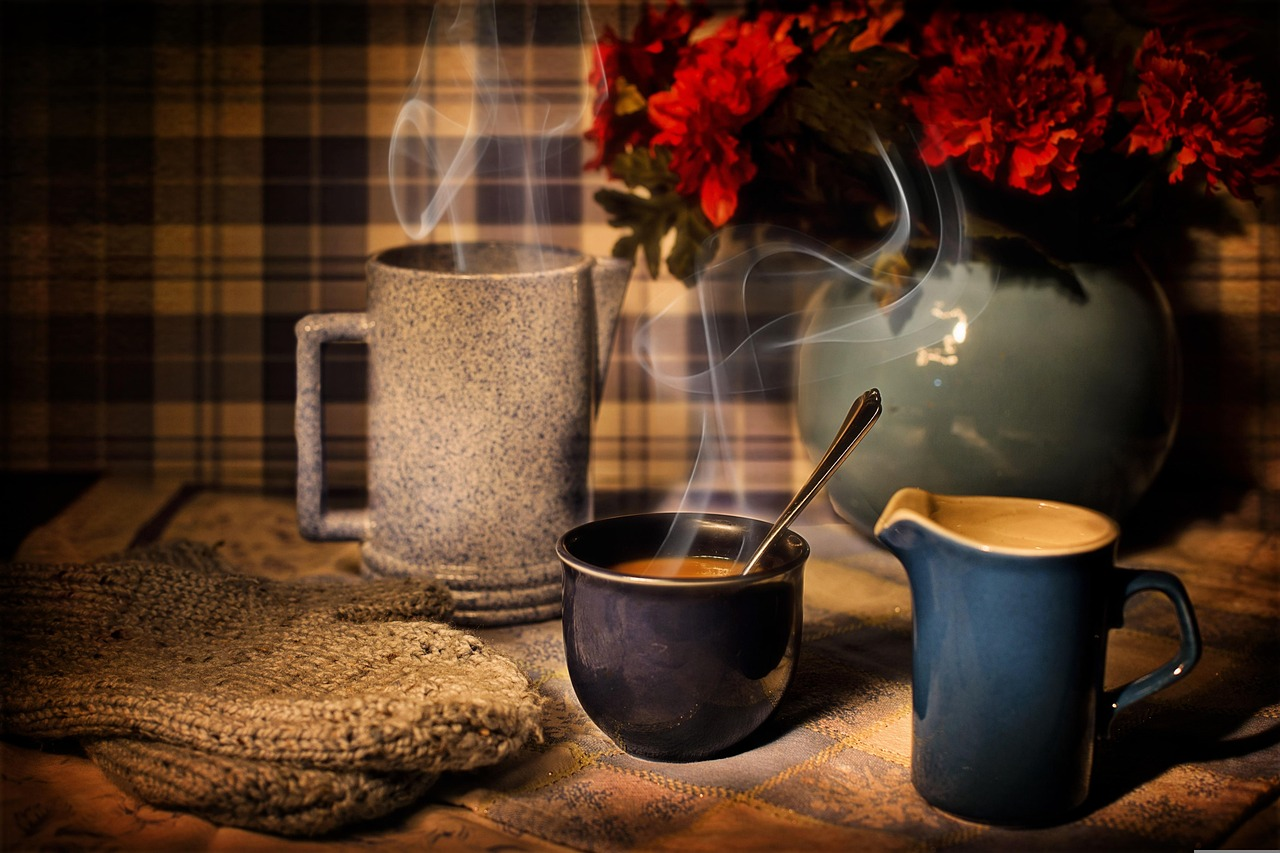mug: (233, 205, 634, 634)
